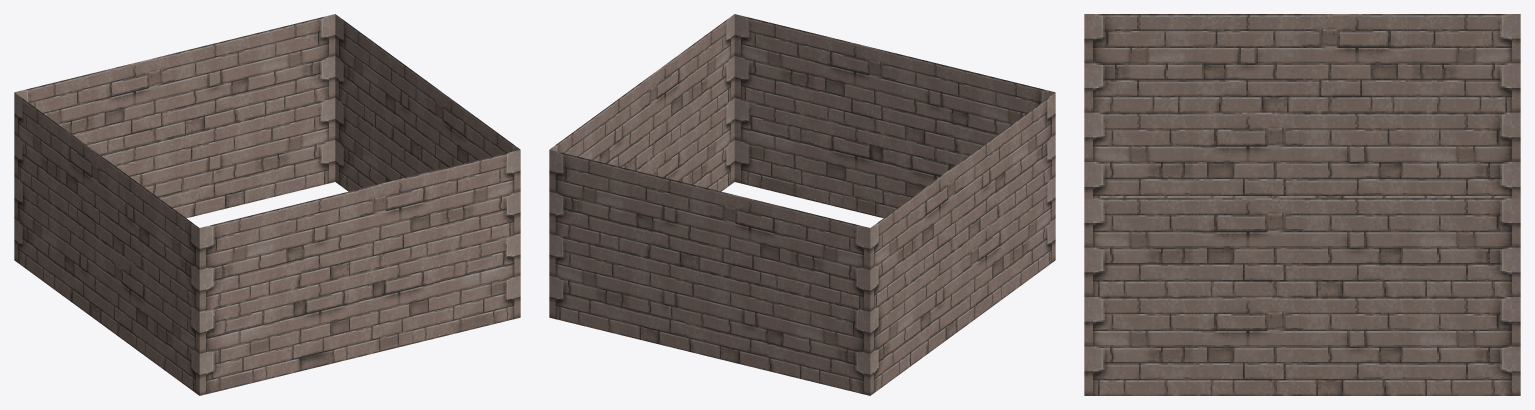
Rendered from stone_square_2m.glb.
3 renders of one model, left to right at view 1: azimuth 30°, elevation 25°; view 2: azimuth 150°, elevation 25°; view 3: azimuth 270°, elevation 25°, orthographic. The views are drawn at different scales.
Visible parts, largest first — view 1: stone_square_2m; view 2: stone_square_2m; view 3: stone_square_2m.
Boxes of the visible parts, x1,y1,x2,y2 form: stone_square_2m: (14,14,520,395); stone_square_2m: (549,14,1055,395); stone_square_2m: (1084,14,1520,395).
Bounding box in the file's own units: 4 × 2 × 4.
Materials: 1 (1 with a texture image).
